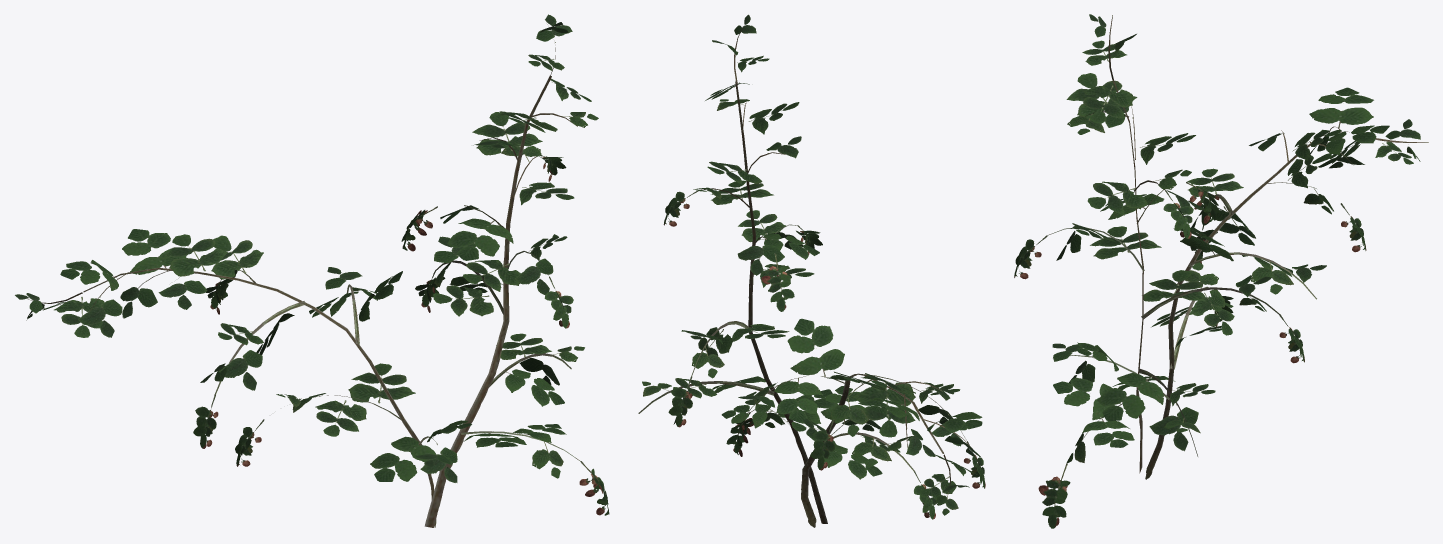
Rendered from arden_forest_raspberry_03.fbx.
3 views of the same model, side by side, from view 1: azimuth 30°, elevation 25°; view 2: azimuth 150°, elevation 25°; view 3: azimuth 270°, elevation 25° (orthographic). The views are drawn at different scales.
Parts seen in each view (by area): view 1: arden_forest_raspberry_03; view 2: arden_forest_raspberry_03; view 3: arden_forest_raspberry_03.
Boxes of the visible parts, bbox=[...] form: arden_forest_raspberry_03: bbox=[15, 14, 609, 527]; arden_forest_raspberry_03: bbox=[638, 14, 985, 527]; arden_forest_raspberry_03: bbox=[1014, 14, 1428, 528].
Bounding box in the file's own units: 2.66 × 2.03 × 2.79.
